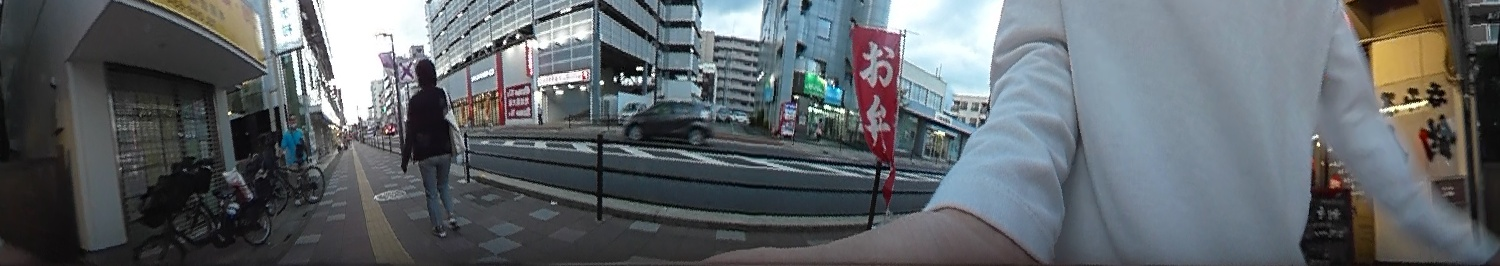difficult_person: (812, 116, 825, 141), (534, 101, 545, 125)
person: (395, 52, 469, 238), (275, 112, 314, 207)
